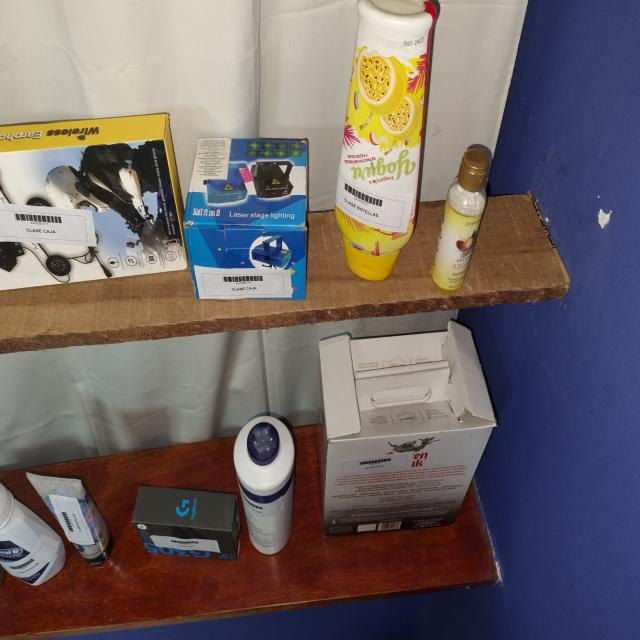botella: (335, 0, 437, 280), (234, 414, 296, 554), (431, 146, 489, 292), (26, 473, 110, 564), (0, 483, 66, 586)
caja: (319, 319, 497, 536), (0, 113, 188, 291), (183, 138, 309, 300), (132, 485, 241, 560)
